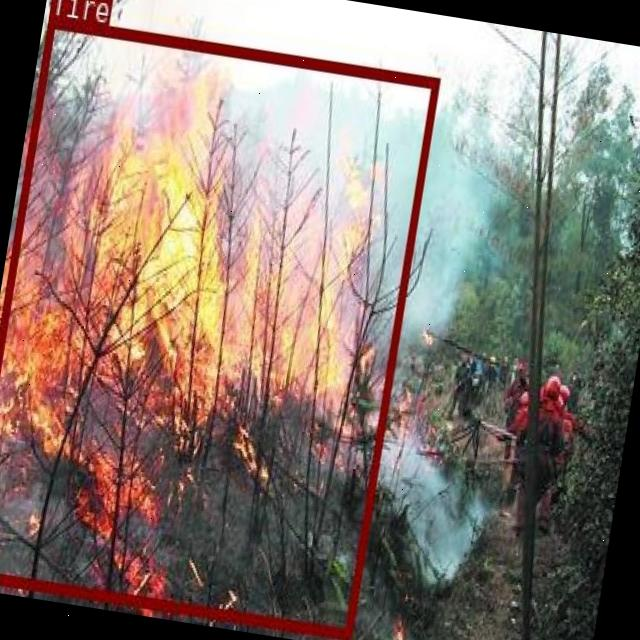fire: (0, 14, 438, 638)
